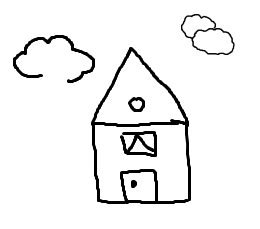clouds: (7, 30, 99, 86), (172, 8, 245, 64)
door: (115, 164, 164, 209)
open_window: (117, 128, 161, 163)
roof: (86, 44, 192, 128)
wall: (86, 115, 197, 208)
